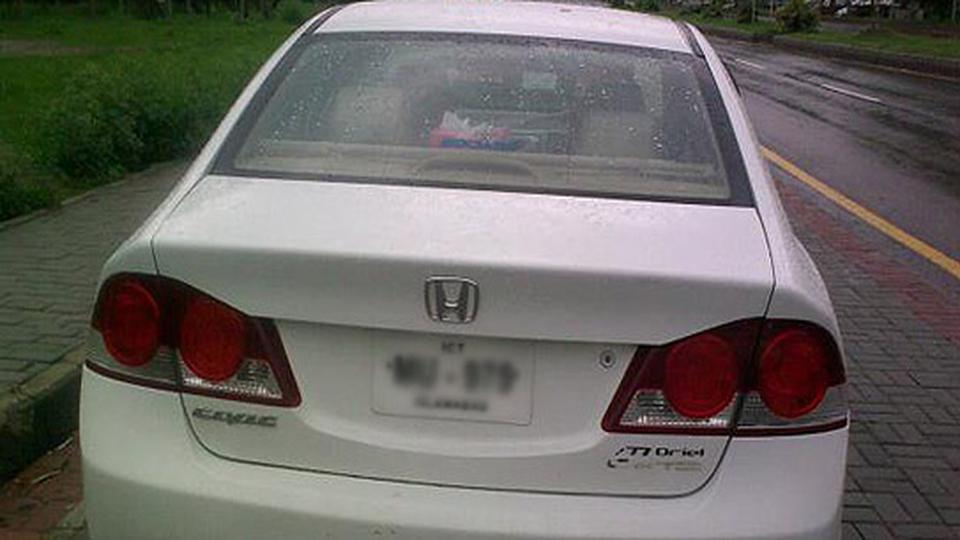NumberPlate: (355, 323, 555, 445)
